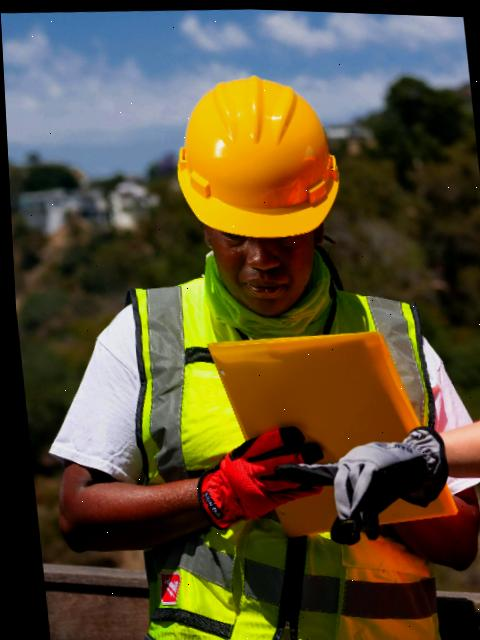helmet: (173, 54, 344, 251)
vest: (110, 268, 451, 640)
